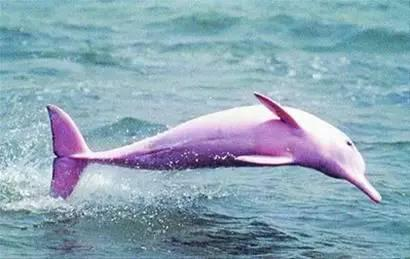fish: (35, 91, 385, 205)
